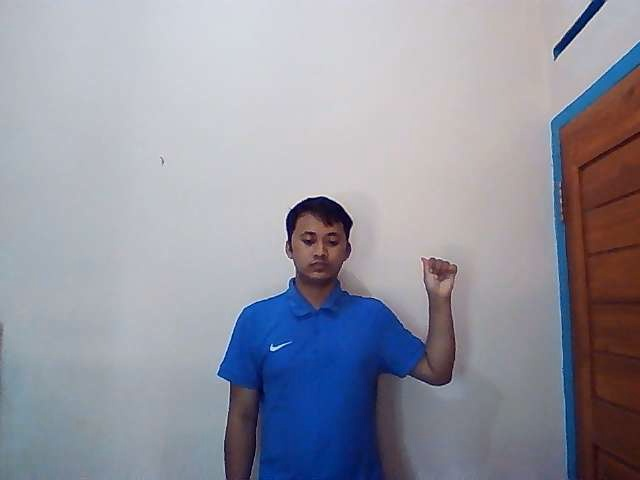A: (420, 256, 459, 296)
